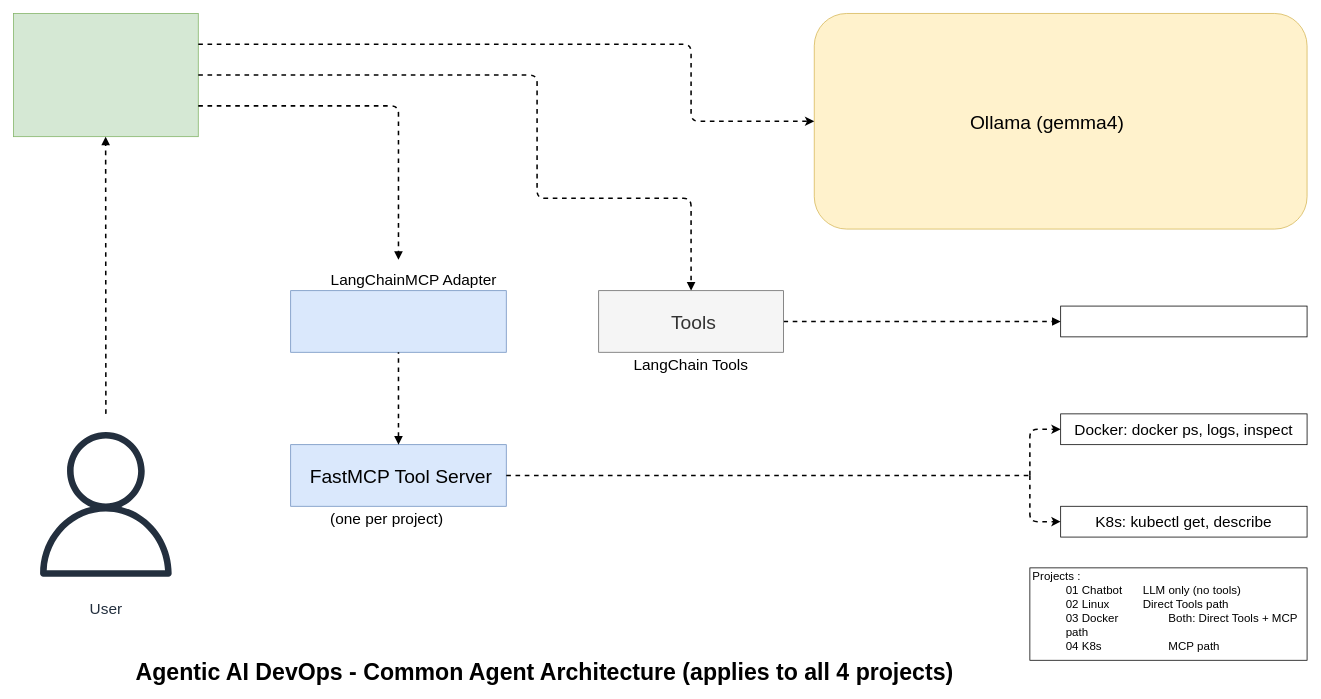
Image size: 1321x699. Some labels were removed from this diagram. Each missing label, with the centre of its shape:
"LangChain Agent" goes at point 105,75.
"Linux: df, free, uptime" goes at point 1183,321.
"MCP Client Adapter" goes at point 398,321.
